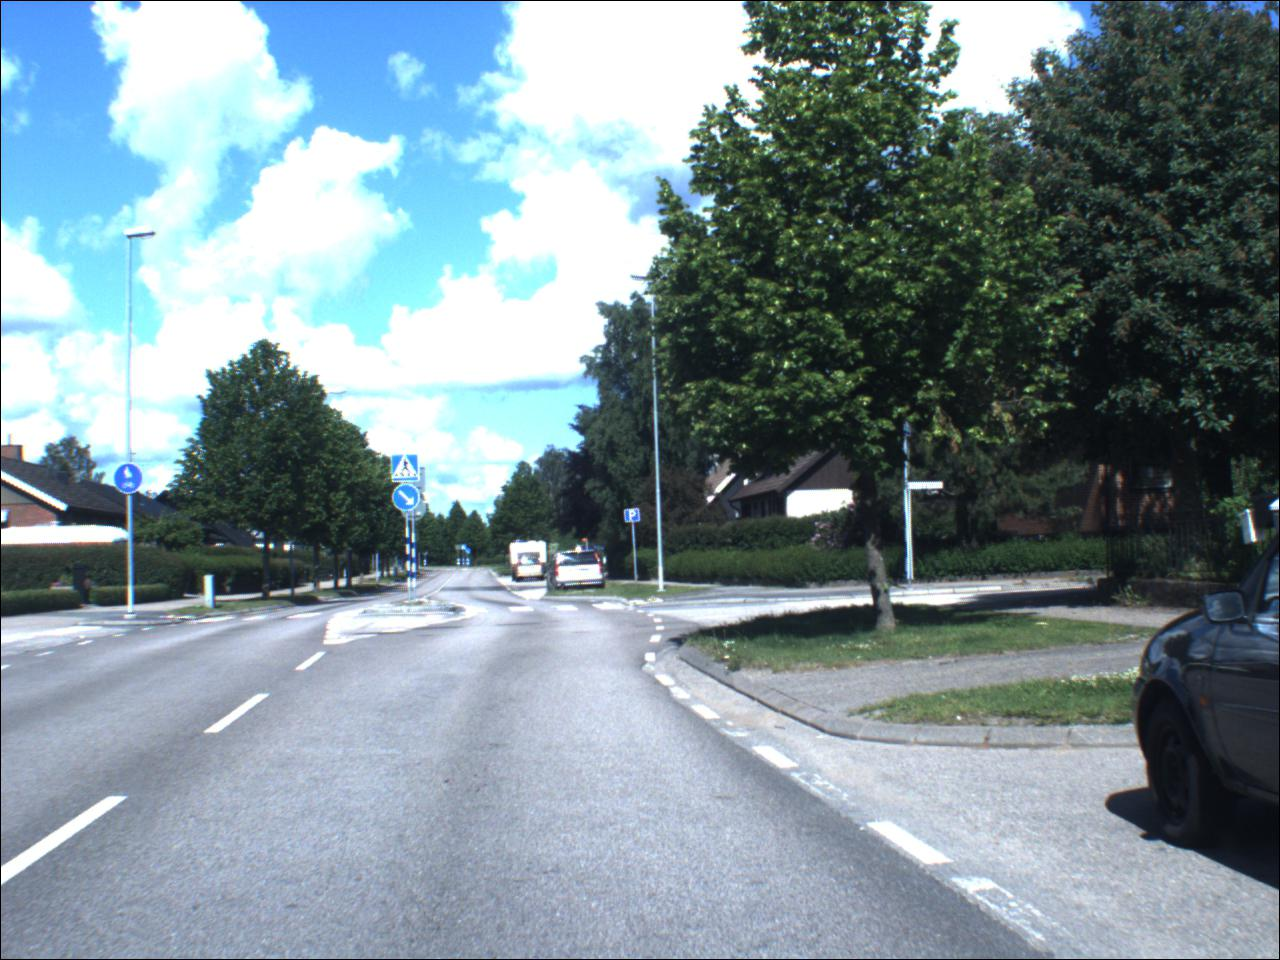PASS_RIGHT_SIDE: (394, 485, 423, 512), (466, 550, 473, 557)
PEDESTRIAN_CROSSING: (393, 456, 421, 484), (464, 546, 469, 552)
